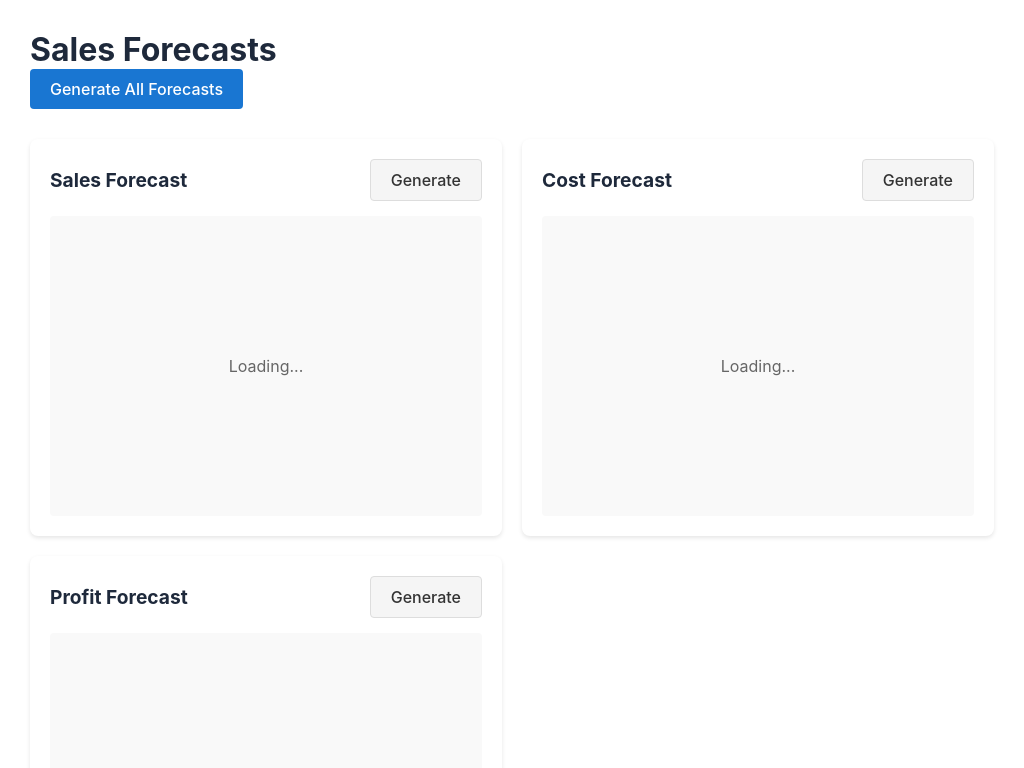
it: Forecasts Component › shows loading state when generating forecasts
What coordinates should you click on to do the following:
click the button "Generate All Forecasts"
I would click on:
 (136, 89)
Its box is x1=30 y1=69 x2=243 y2=109.
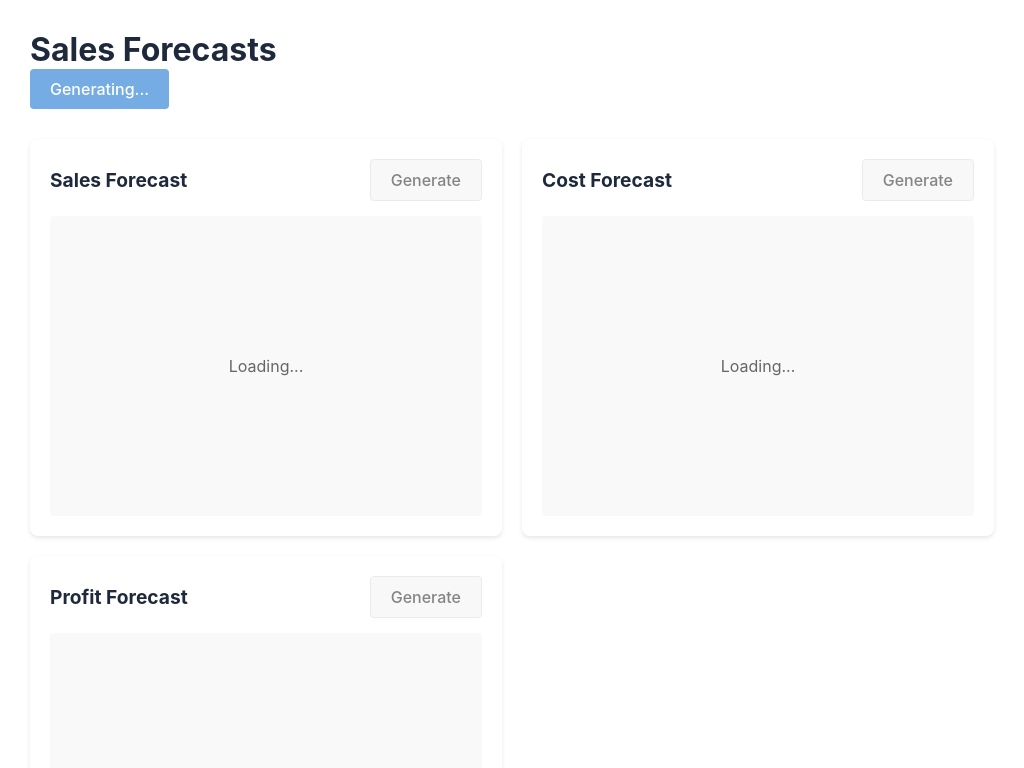
expect the button "Generating..." is shown: met, box x1=30 y1=69 x2=169 y2=109
